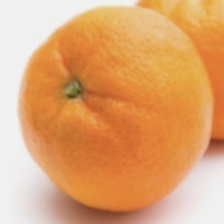orange: (56, 33, 202, 187)
